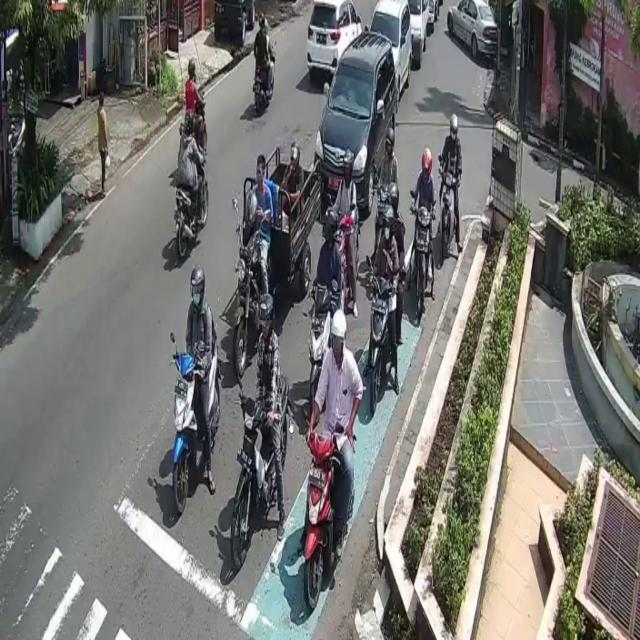bus: (230, 376, 290, 572), (172, 327, 221, 517), (304, 430, 342, 616), (232, 246, 273, 367), (176, 141, 208, 261), (306, 285, 328, 418), (371, 266, 392, 399), (413, 202, 435, 323), (253, 38, 277, 110), (440, 171, 457, 263)
motorcycle: (314, 30, 396, 216), (306, 0, 362, 80), (369, 0, 412, 91), (448, 0, 500, 60)
